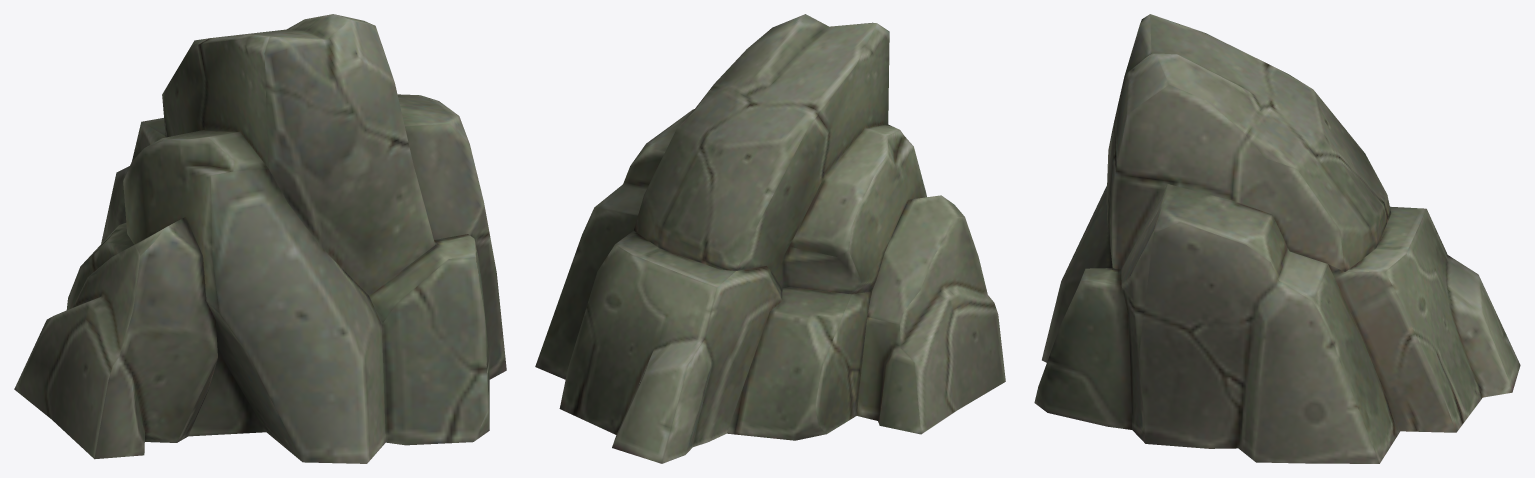
The model's file is Lty_st_01.FBX.
3 renders of one model, left to right at view 1: azimuth 30°, elevation 25°; view 2: azimuth 150°, elevation 25°; view 3: azimuth 270°, elevation 25°, orthographic. The views are drawn at different scales.
Parts seen in each view (by area): view 1: Mesh 005; view 2: Mesh 005; view 3: Mesh 005.
Boxes of the visible parts, left/top/right/bottom form: Mesh 005: left=14, top=14, right=506, bottom=463; Mesh 005: left=535, top=14, right=1005, bottom=463; Mesh 005: left=1034, top=14, right=1520, bottom=463.
Bounding box in the file's own units: 192 × 159 × 211.
